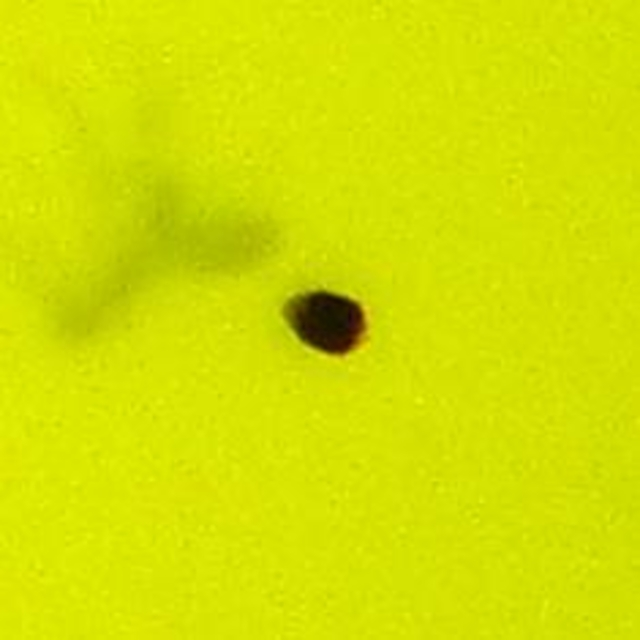Coleoptera: (272, 274, 368, 366)
